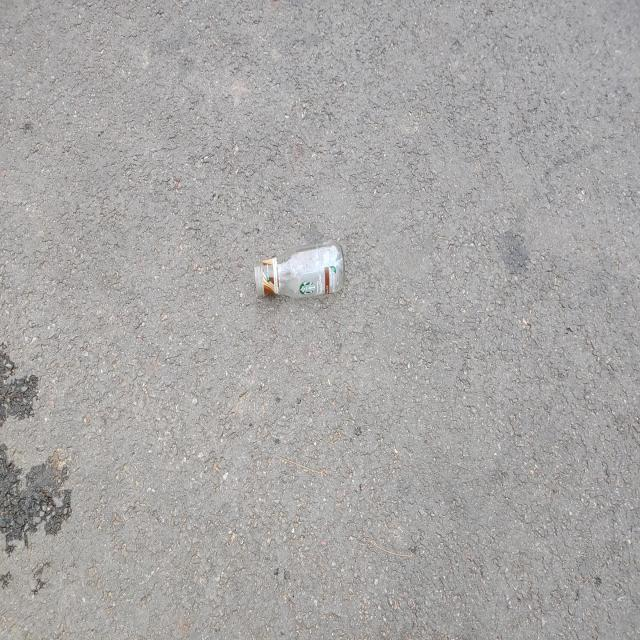glass: (255, 242, 344, 297)
